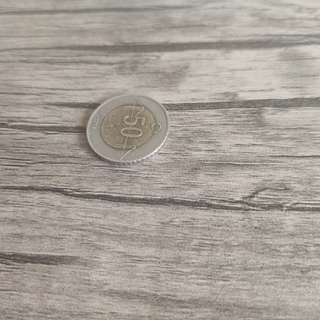50KURUS: (84, 92, 170, 166)
